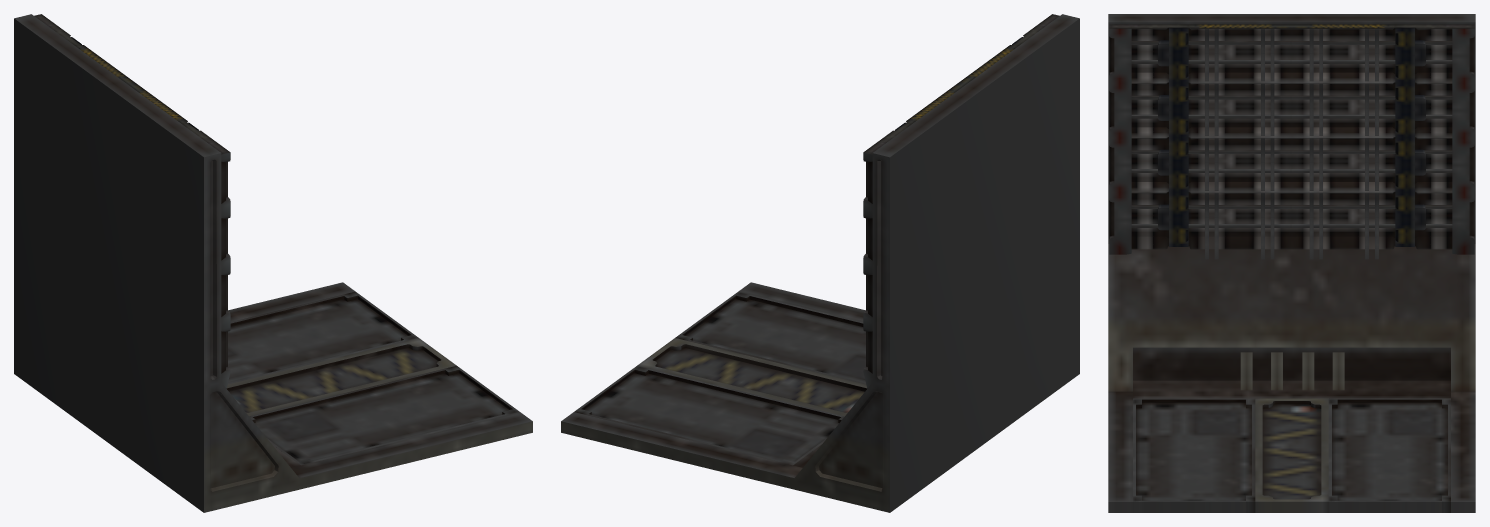
The model's file is Wall-Floor_17.FBX.
3 views of the same model, side by side, from view 1: azimuth 30°, elevation 25°; view 2: azimuth 150°, elevation 25°; view 3: azimuth 270°, elevation 25° (orthographic). The views are drawn at different scales.
Parts seen in each view (by area): view 1: Wall-Floor_17; view 2: Wall-Floor_17; view 3: Wall-Floor_17.
Part boxes in pixels (box(x1,y1,x2,y2)): Wall-Floor_17: box(14, 14, 532, 512); Wall-Floor_17: box(561, 14, 1079, 512); Wall-Floor_17: box(1108, 14, 1475, 512).
Bounding box in the file's own units: 300 × 310 × 300.
